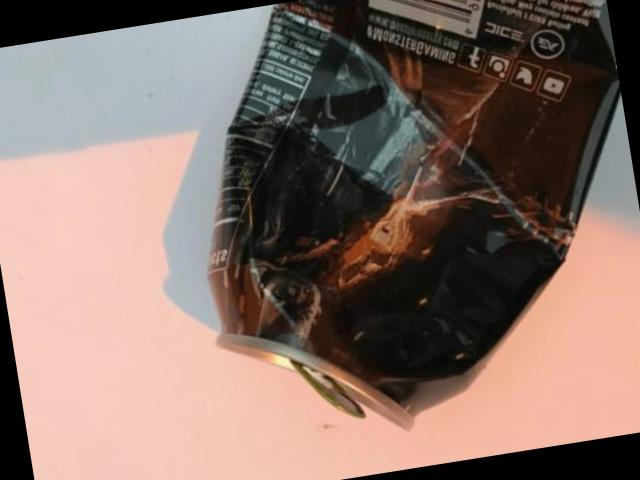metal: (208, 0, 620, 431)
